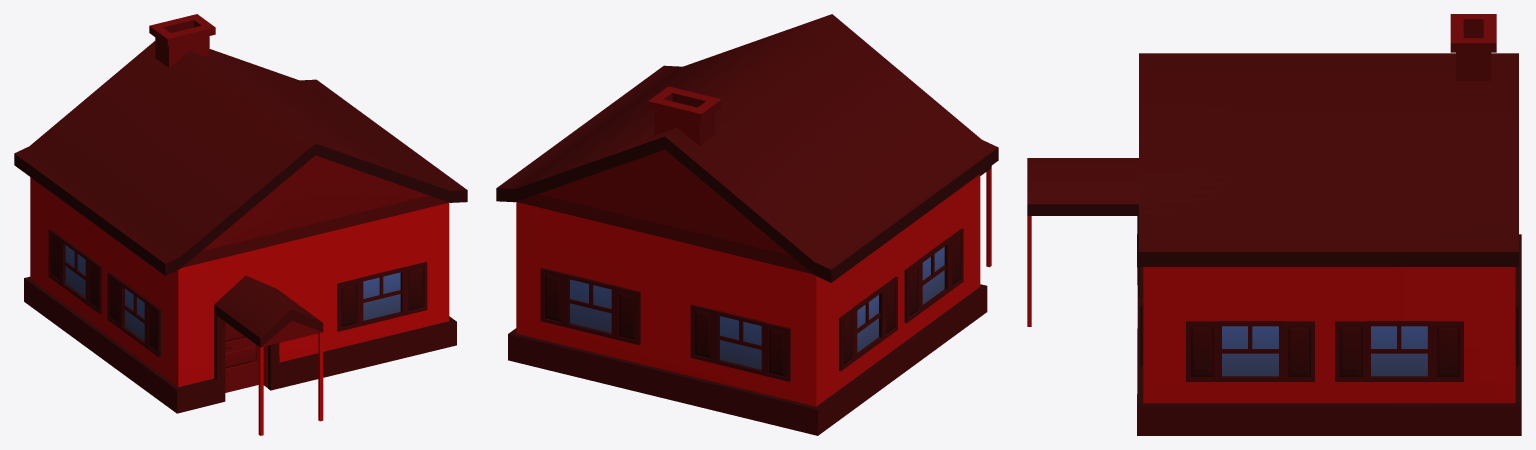
Rendered from buildings-residential-greenhouse_v1.fbx.
The picture shows the model from 3 angles, left to right: view 1: azimuth 30°, elevation 25°; view 2: azimuth 150°, elevation 25°; view 3: azimuth 270°, elevation 25°; orthographic projection. The views are drawn at different scales.
Parts seen in each view (by area): view 1: GreenHouse_base, GreenHouse_windowRefl; view 2: GreenHouse_base, GreenHouse_windowRefl; view 3: GreenHouse_base, GreenHouse_windowRefl.
Part boxes in pixels (x1,y1,x2,y2): GreenHouse_base: (14, 14, 467, 435); GreenHouse_windowRefl: (65, 245, 400, 340); GreenHouse_base: (496, 14, 998, 435); GreenHouse_windowRefl: (570, 247, 944, 369); GreenHouse_base: (1027, 14, 1521, 435); GreenHouse_windowRefl: (1222, 326, 1427, 376).
Bounding box in the file's own units: 9.71 × 7.84 × 10.94.
